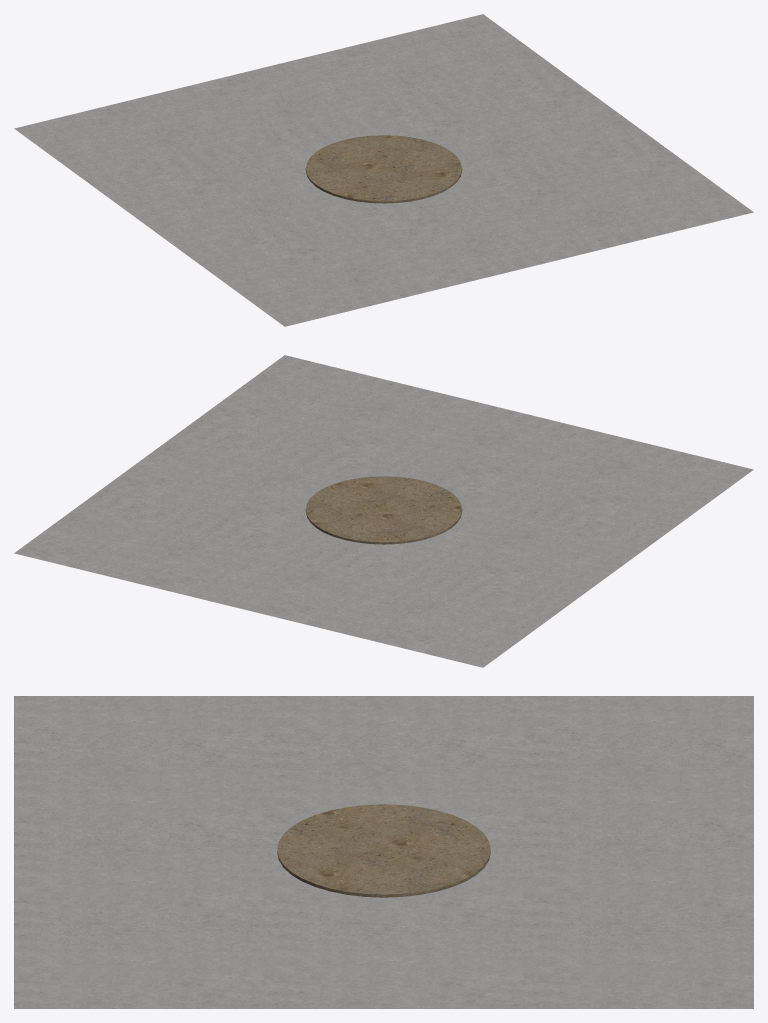
File: ground.fbx
3 views of the same model, one above another, from view 1: azimuth 30°, elevation 25°; view 2: azimuth 150°, elevation 25°; view 3: azimuth 270°, elevation 25° (orthographic). The views are drawn at different scales.
Parts seen in each view (by area): view 1: polySurface1; view 2: polySurface1; view 3: polySurface1.
Part boxes in pixels (left/top/right/bottom): polySurface1: left=14, top=14, right=753, bottom=326; polySurface1: left=14, top=355, right=753, bottom=667; polySurface1: left=14, top=696, right=753, bottom=1008.
Size of the model in its own units: 95.25 by 0.4354 by 95.25.
Materials: 1 (1 with a texture image).
